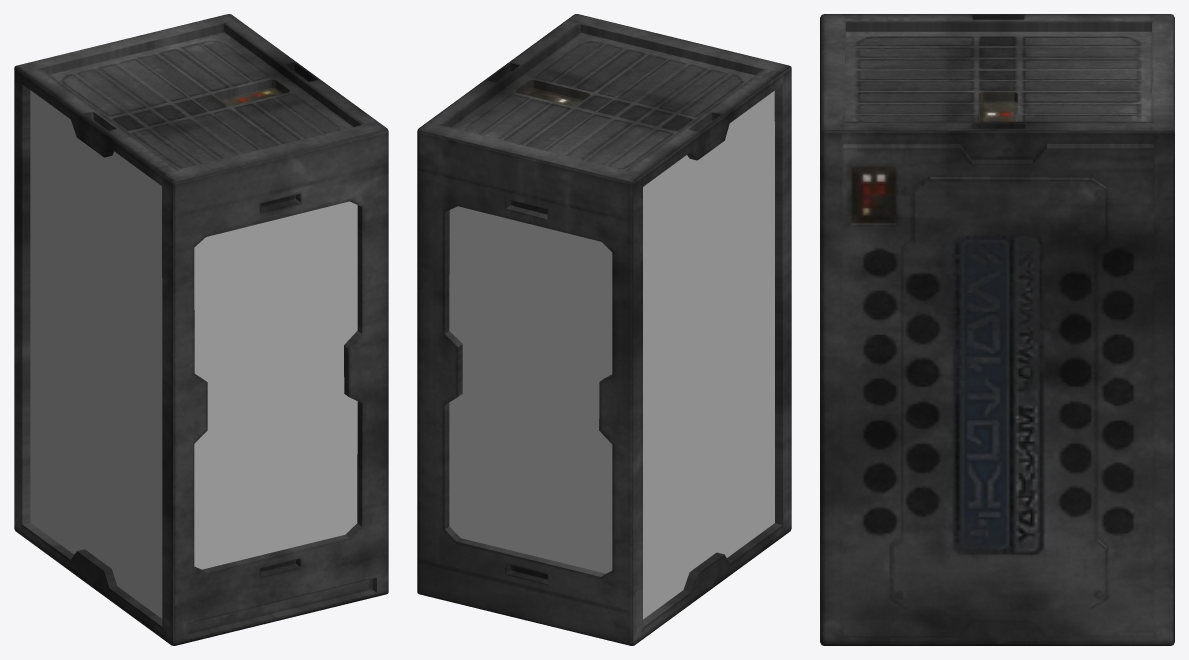
File: machinery_3.obj
The picture shows the model from 3 angles, left to right: view 1: azimuth 30°, elevation 25°; view 2: azimuth 150°, elevation 25°; view 3: azimuth 270°, elevation 25°; orthographic projection. The views are drawn at different scales.
Parts seen in each view (by area): view 1: machinery_3; view 2: machinery_3; view 3: machinery_3.
Part boxes in pixels (x1,y1,x2,y2): machinery_3: [14, 14, 388, 645]; machinery_3: [417, 14, 791, 645]; machinery_3: [820, 14, 1174, 645].
Bounding box in the file's own units: 0.58 × 1.13 × 0.7.
